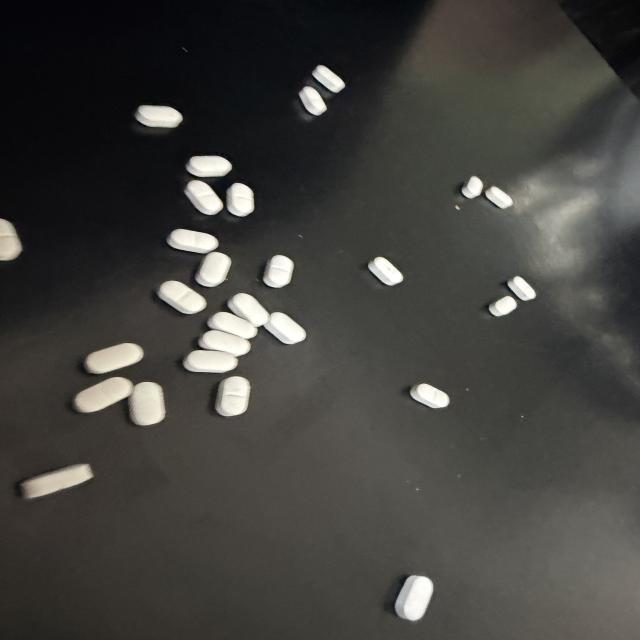pill: (21, 464, 93, 499), (74, 377, 133, 412), (85, 343, 143, 373), (395, 576, 433, 621), (157, 281, 206, 314), (129, 382, 165, 426), (228, 293, 269, 326), (207, 312, 257, 339), (264, 312, 306, 344), (185, 180, 223, 215), (199, 330, 250, 356), (216, 377, 250, 416), (196, 252, 231, 287), (167, 229, 218, 253), (184, 351, 237, 373), (135, 105, 182, 128), (263, 255, 293, 287), (369, 257, 403, 285), (186, 156, 231, 177), (410, 384, 449, 408), (0, 219, 22, 260), (227, 183, 254, 216), (312, 65, 345, 92), (299, 86, 326, 115), (508, 277, 536, 300), (485, 186, 513, 208), (489, 296, 516, 316), (462, 176, 483, 198)
